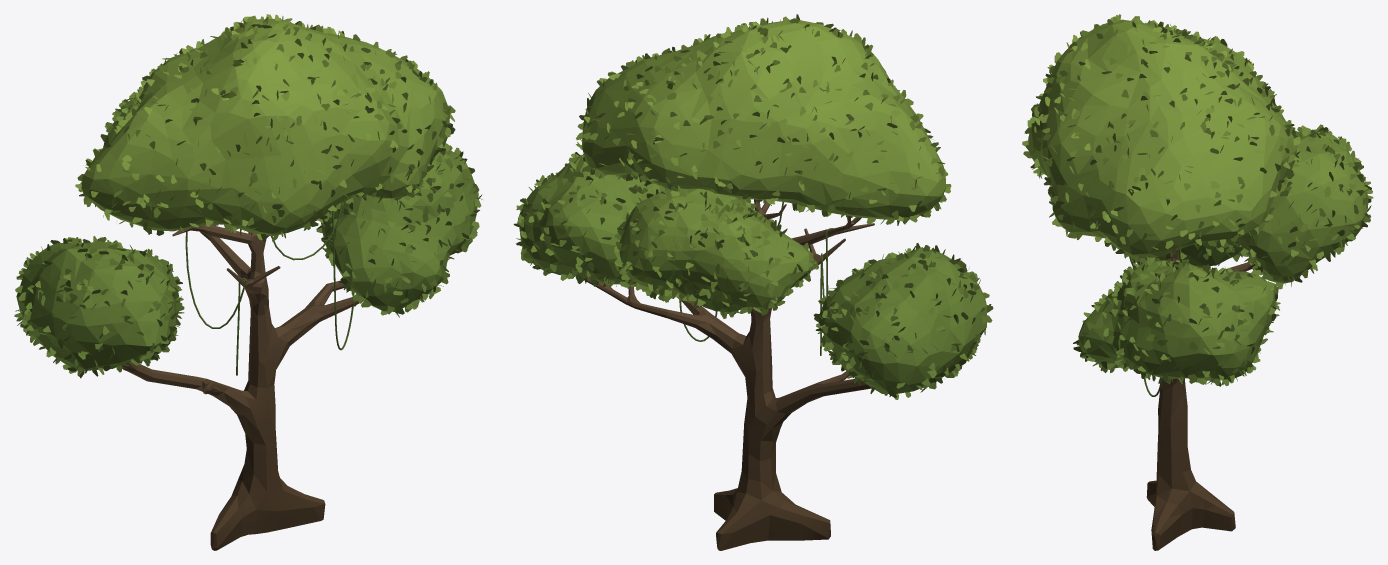
Rendered from Tree_03.fbx.
The picture shows the model from 3 angles, left to right: view 1: azimuth 30°, elevation 25°; view 2: azimuth 150°, elevation 25°; view 3: azimuth 270°, elevation 25°; orthographic projection. The views are drawn at different scales.
Parts seen in each view (by area): view 1: Tree_03_LOD0; view 2: Tree_03_LOD0; view 3: Tree_03_LOD0.
Part boxes in pixels (box(x1,y1,x2,y2)): Tree_03_LOD0: box(14, 14, 482, 550); Tree_03_LOD0: box(513, 14, 993, 550); Tree_03_LOD0: box(1022, 14, 1373, 550).
Size of what is drawn, in the model's own units: 9.15 by 9.96 by 6.35.
